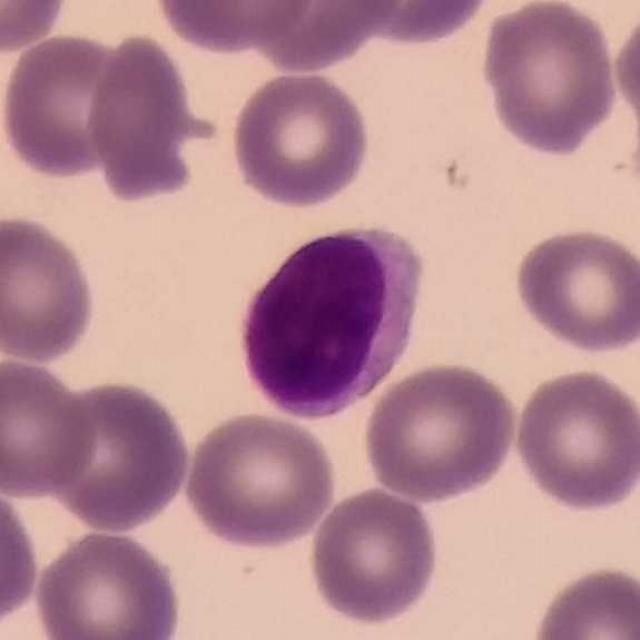Lymphocyte: (228, 218, 431, 423)
RBC: (44, 375, 195, 534), (359, 358, 521, 504), (477, 0, 621, 160), (180, 409, 340, 552), (81, 29, 206, 207), (0, 28, 139, 184), (228, 68, 374, 211), (508, 363, 640, 515), (305, 484, 443, 629), (31, 525, 186, 640), (508, 222, 640, 357), (0, 210, 100, 366), (0, 354, 99, 500), (244, 0, 402, 76), (150, 0, 318, 55), (527, 562, 640, 640), (337, 0, 498, 50), (0, 477, 42, 632), (610, 2, 640, 144), (0, 0, 72, 54)
